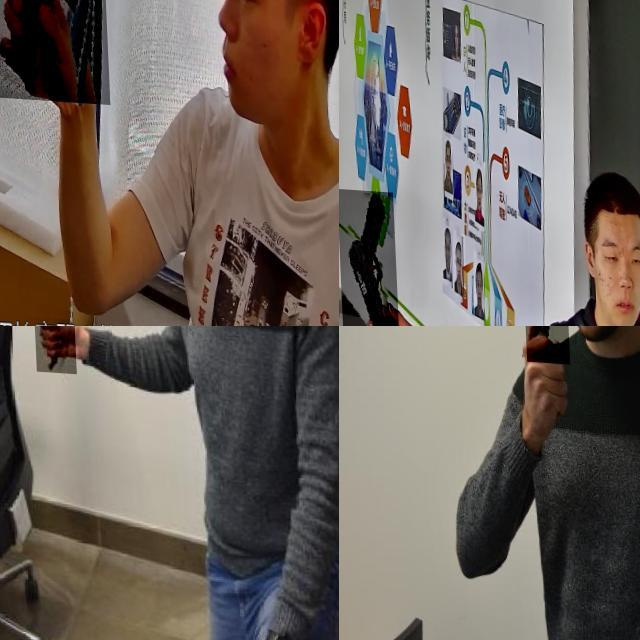-: (519, 326, 567, 393), (29, 326, 73, 389)
gun-knife-thesis - v11 Yolov5 augmented: (0, 0, 106, 136), (339, 186, 394, 326)
